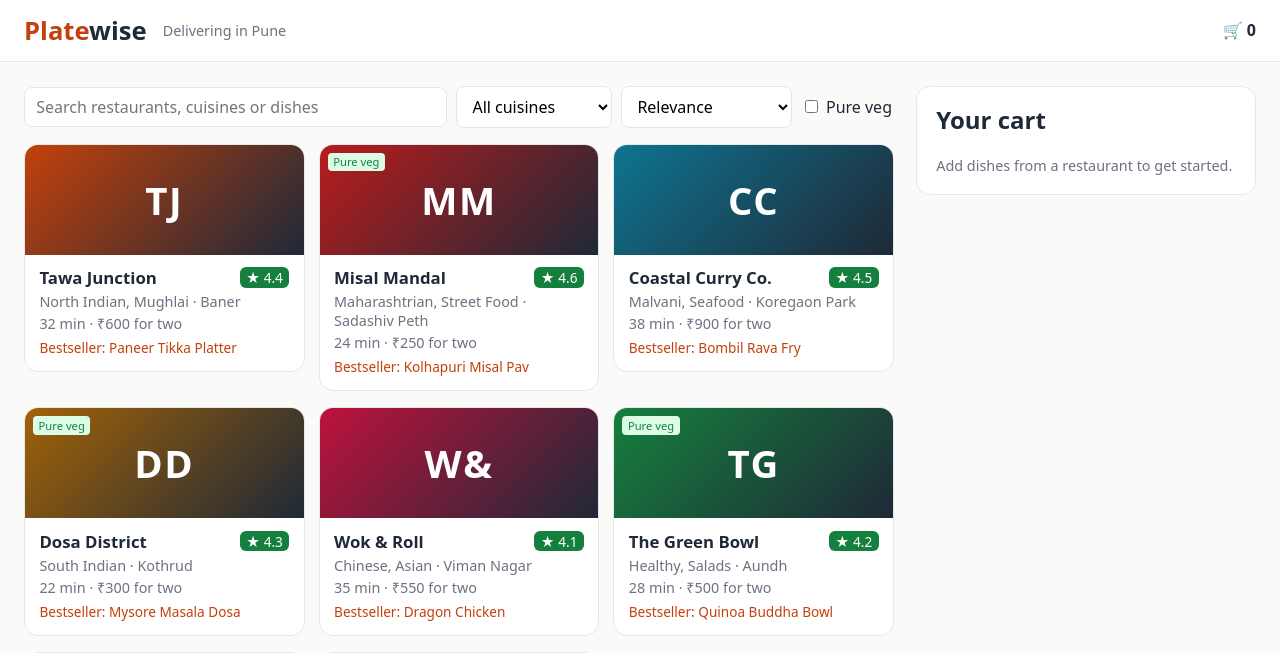
<App /> › searches and filters through the API, showing an empty state when nothing matches
Step 1. Select "Seafood" in the dropdown named "Cuisine" → (534, 107), box [456,86,612,128]
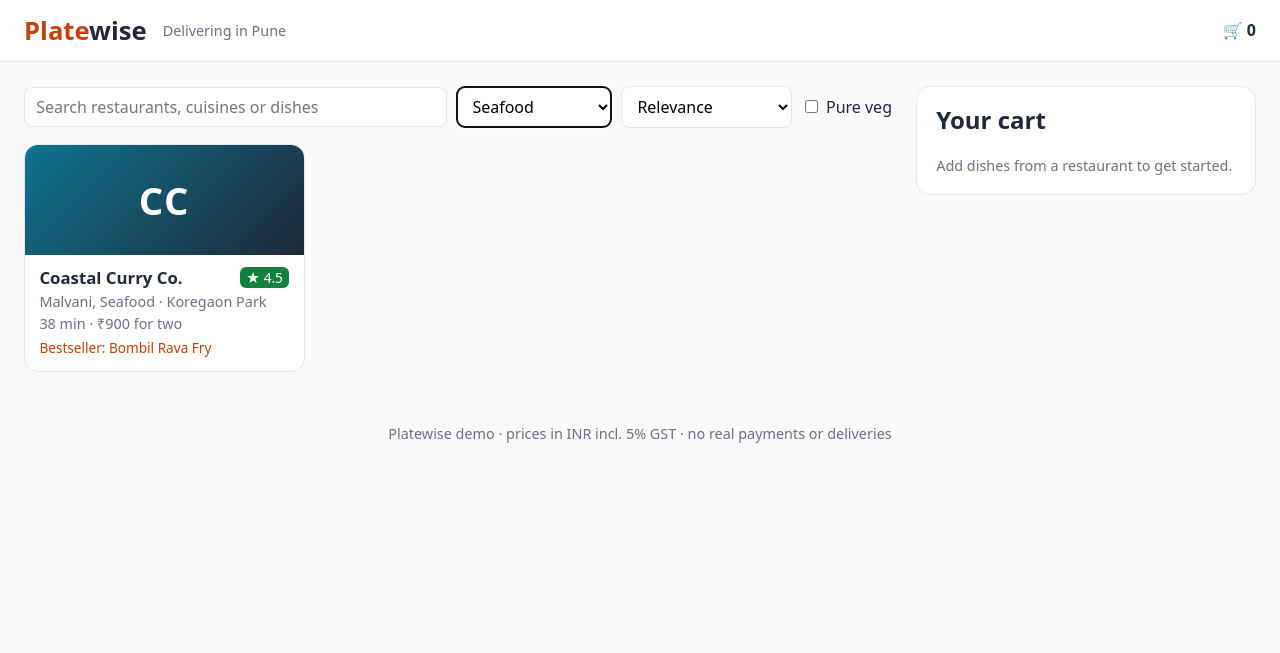
Check: the number of list items is 1, box [24,144,303,372]
Step 2. Select "Delivery time" in the dropdown named "Sort by" → (706, 107), box [621,86,792,128]
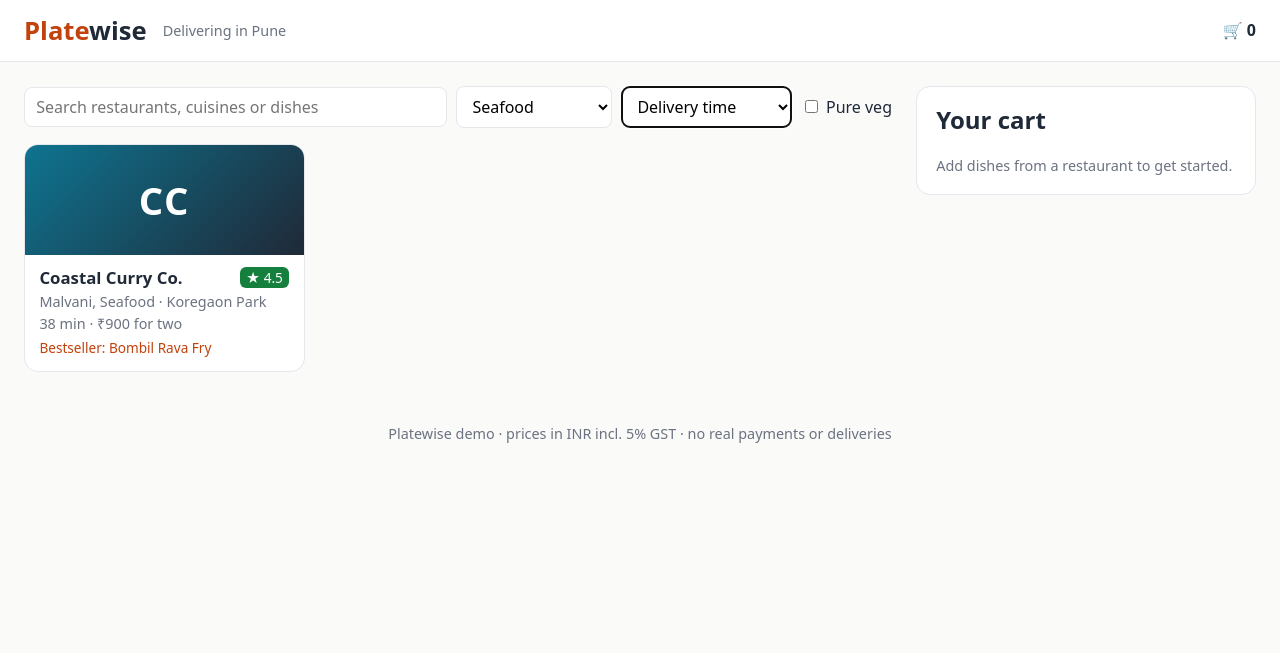
Step 3. Click the checkbox labelled "Pure veg" → click(812, 107), box [805,100,818,113]
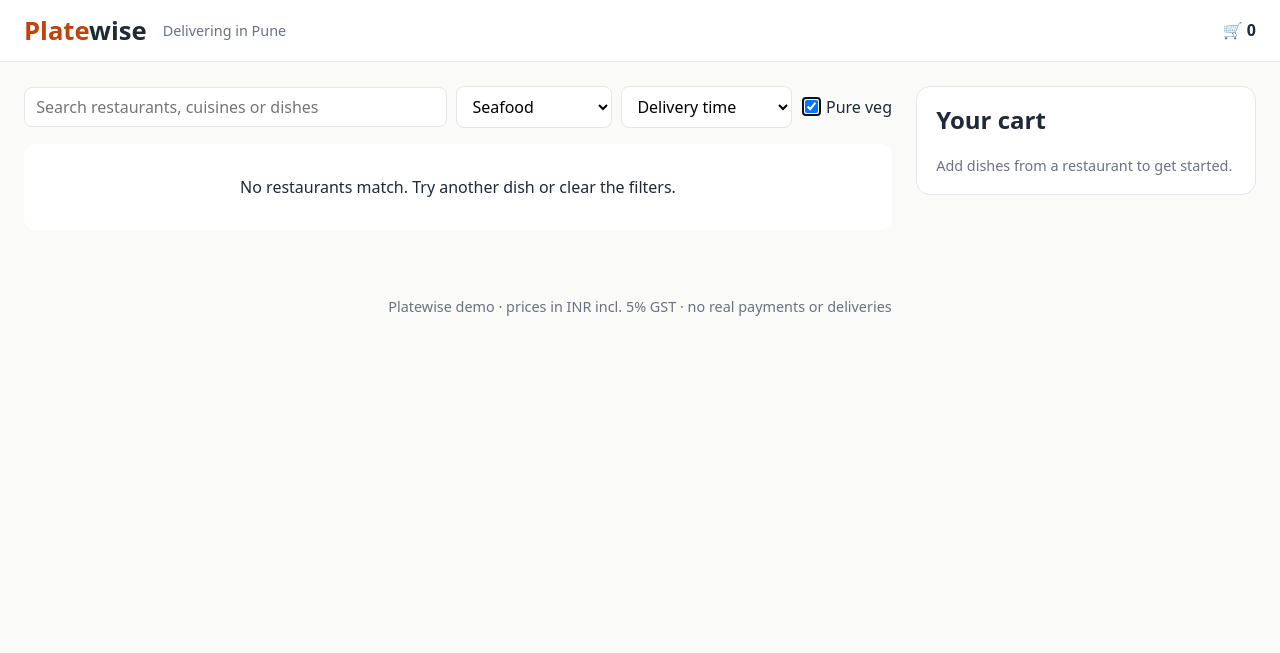
Check: the text "No restaurants match. Try another dish or clear the filters." is shown, box [24,144,892,230]
Step 4. Select "All cuisines" in the dropdown named "Cuisine" → (534, 107), box [456,86,612,128]
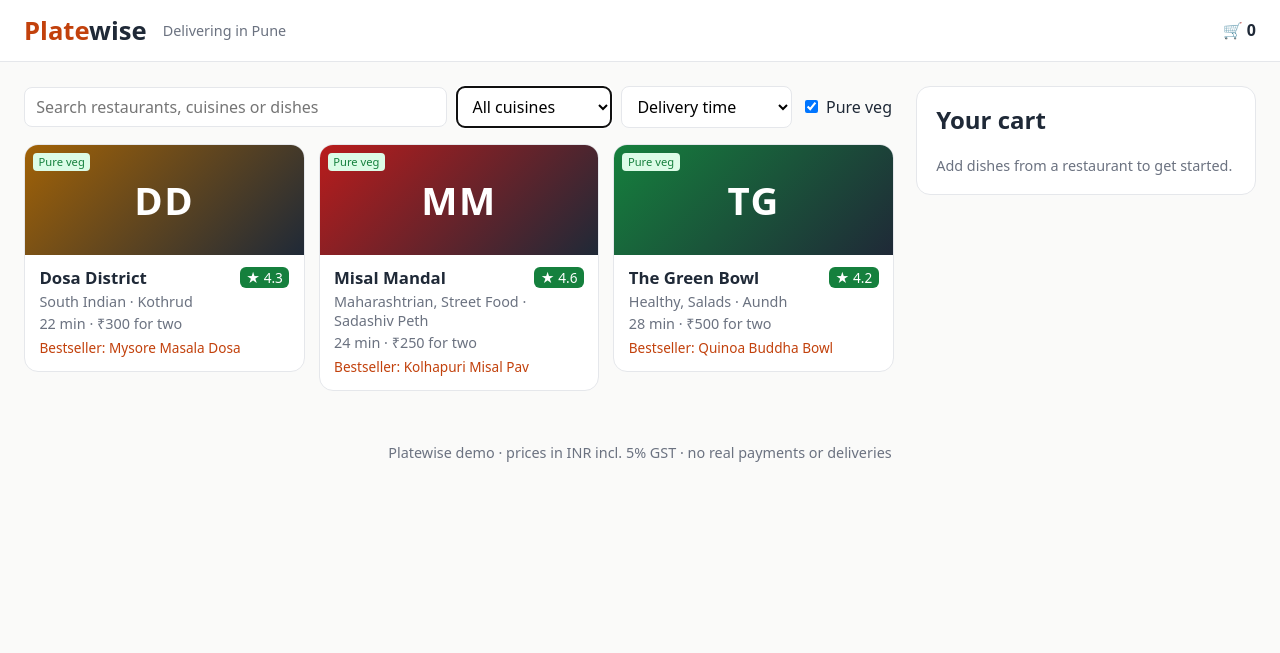
Step 5. Type "poha" into the search field named "Search restaurants or dishes" → (235, 107), box [24,87,447,127]
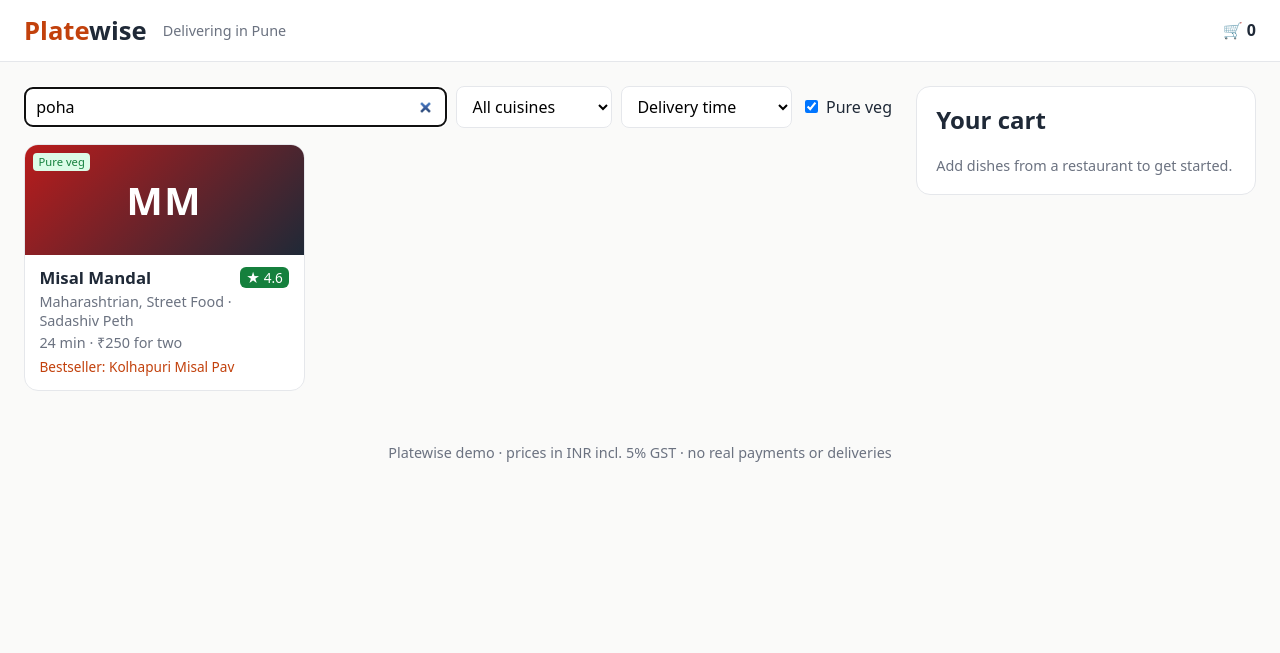
Check: the number of list items is 1, box [24,144,303,391]
